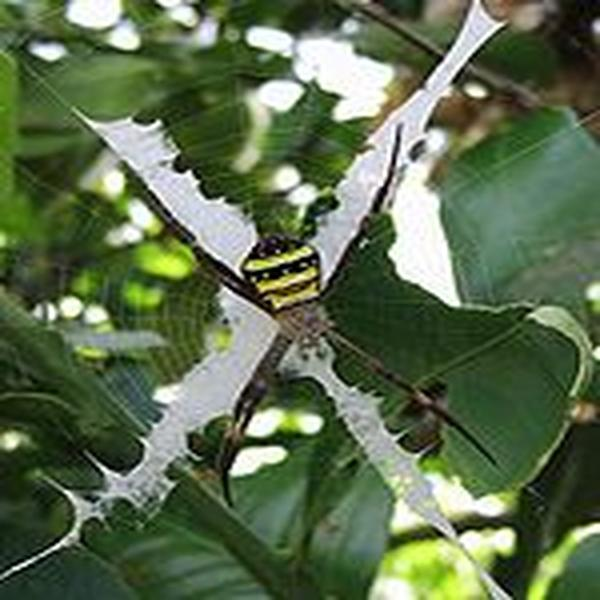St Andrew's Cross Spider: (126, 127, 490, 497)
